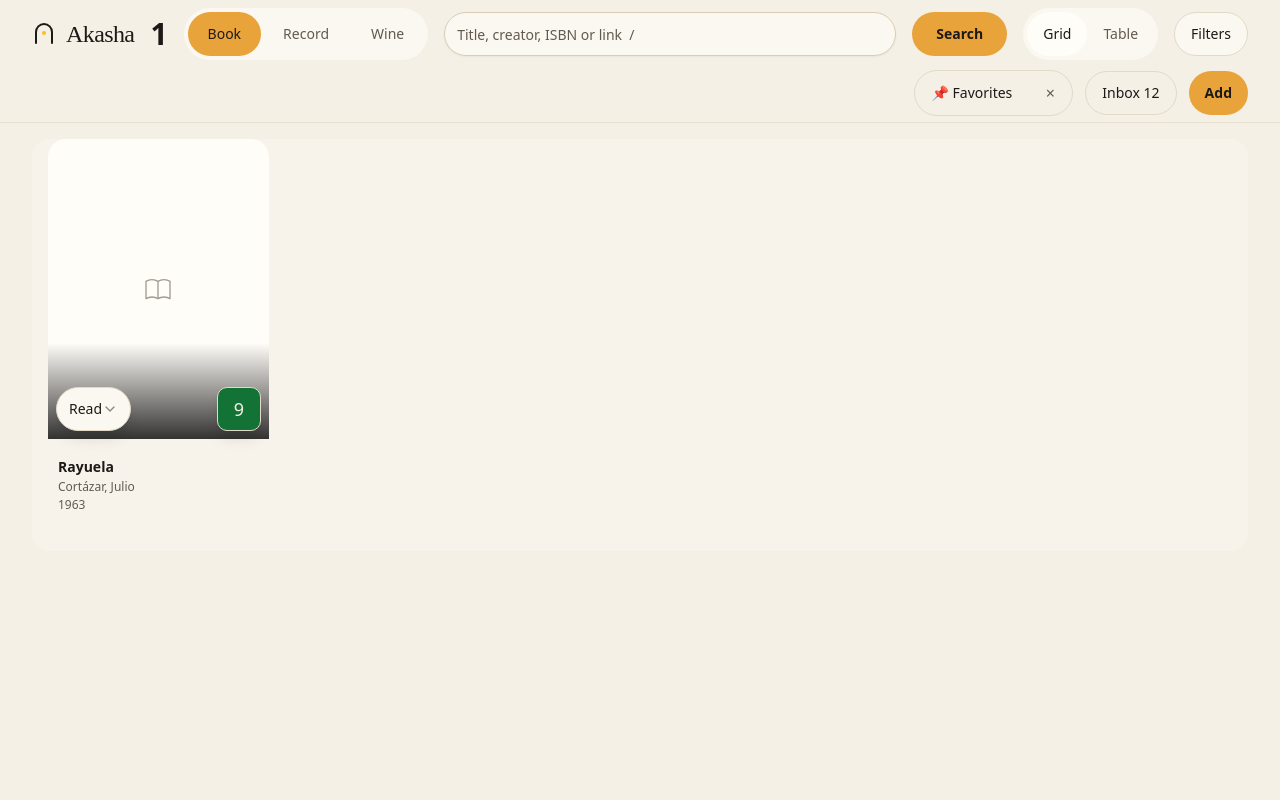
Test: a pinned shelf reaches the library bar and applies in one press
Check: the heading "Rayuela" is shown, box [58, 457, 114, 476]
Click the button "📌 Favorites" at (972, 93), box [916, 71, 1028, 115]
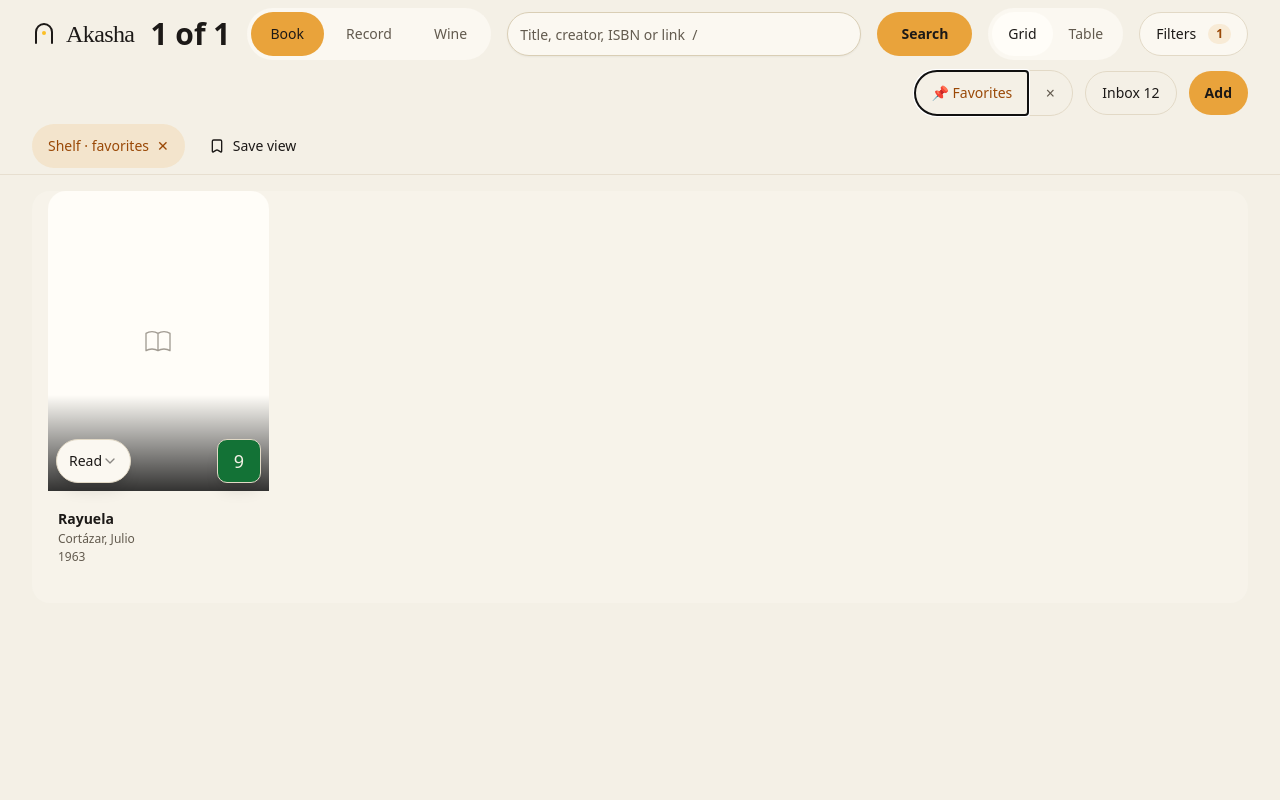
Check: the button "📌 Favorites" is pressed, box [916, 71, 1028, 115]
Click the button named "Unpin Favorites" at (1050, 93), box [1028, 71, 1072, 115]
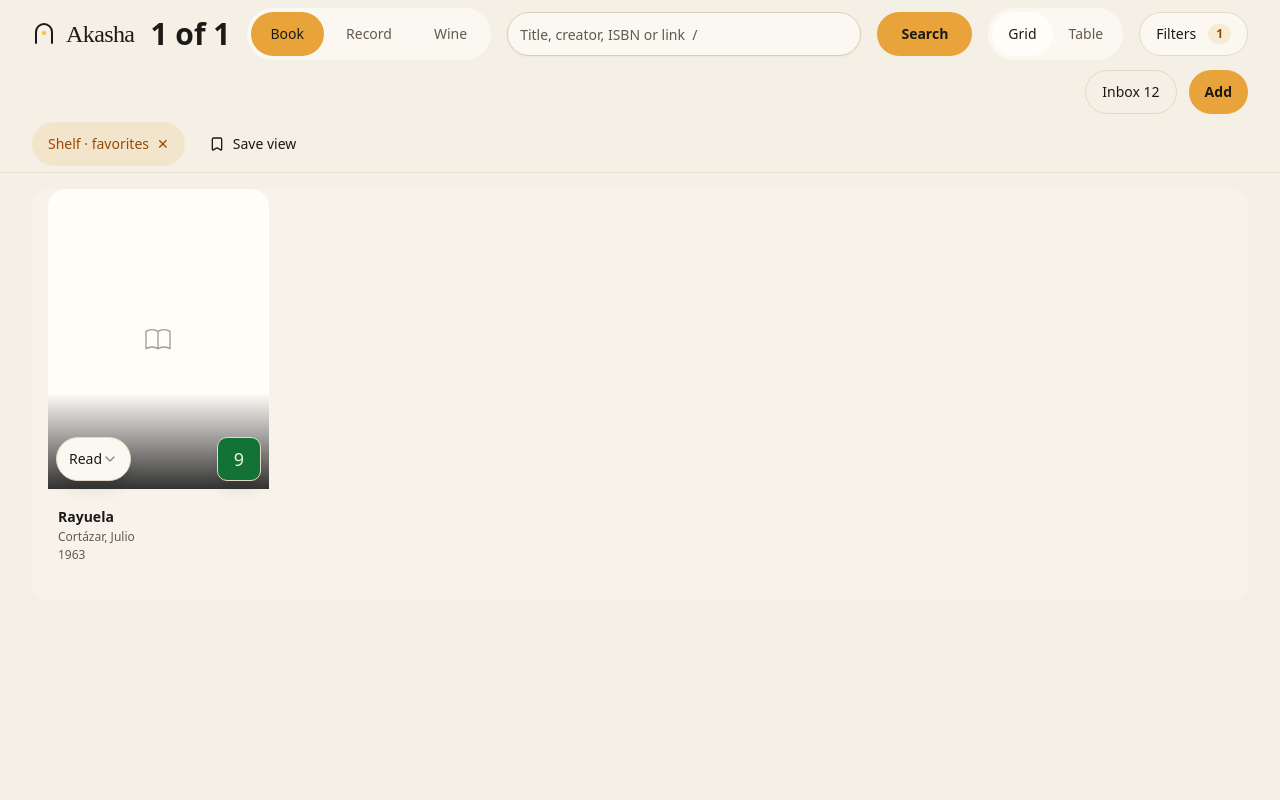
Check: the button "📌 Favorites" is gone
